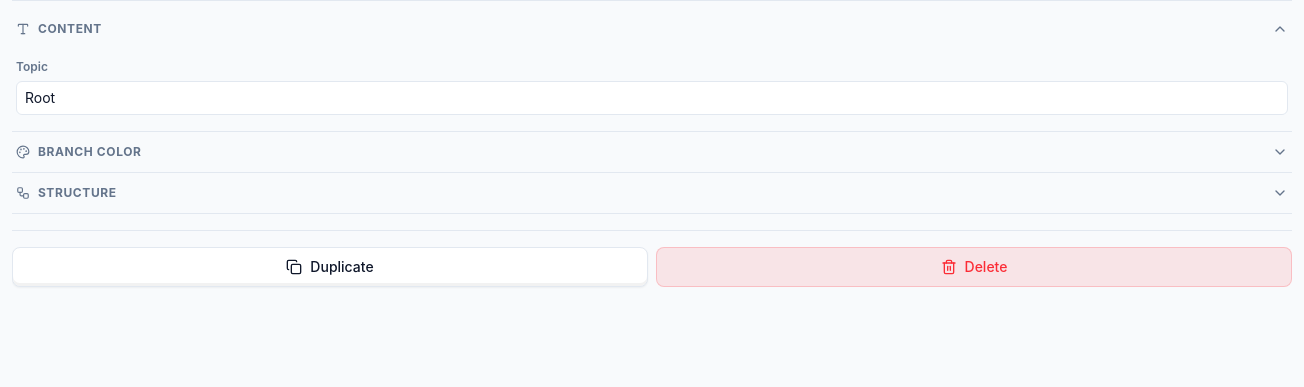
Test: MindmapNodeProperties › disables sibling creation for the root topic
Click the button "Structure" at (77,192), box [12, 173, 1292, 213]
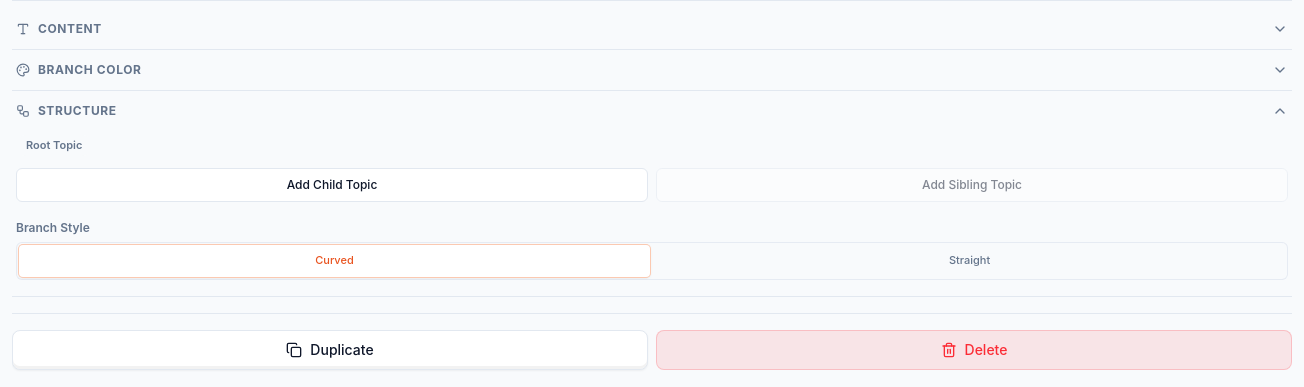
expect the button "Add Sibling Topic" is disabled: met, box [656, 168, 1288, 202]
